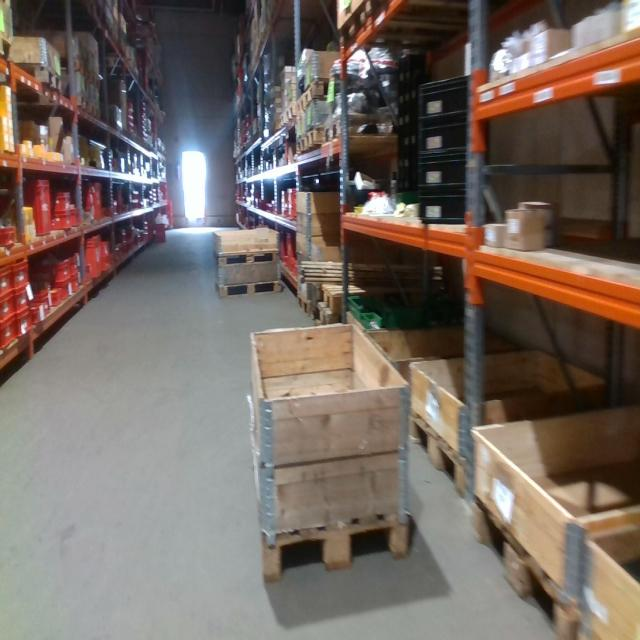pallet: (264, 429, 412, 581), (469, 498, 578, 640), (411, 408, 467, 485), (9, 53, 63, 94), (339, 3, 383, 48), (213, 272, 281, 300), (215, 243, 281, 271), (305, 79, 347, 112), (319, 282, 366, 310), (315, 304, 349, 332), (54, 57, 87, 84), (58, 90, 90, 113), (306, 128, 330, 155), (297, 296, 321, 321), (2, 25, 12, 70), (296, 131, 311, 160), (286, 97, 299, 128), (87, 72, 106, 90), (296, 95, 308, 118), (86, 104, 101, 121), (276, 113, 286, 133)
small_load_carrier: (416, 72, 490, 117), (415, 150, 492, 188), (16, 174, 54, 236), (416, 117, 491, 148), (415, 188, 481, 218), (71, 234, 103, 281), (30, 255, 69, 293), (0, 262, 13, 304), (32, 299, 52, 326), (0, 292, 15, 328), (13, 259, 31, 288), (13, 288, 35, 311), (93, 180, 105, 222), (35, 286, 59, 305), (2, 320, 14, 354), (286, 231, 295, 270), (2, 226, 16, 251), (53, 192, 69, 213), (15, 309, 32, 327), (73, 182, 95, 194), (59, 281, 70, 303), (53, 213, 69, 228), (151, 223, 164, 240), (68, 255, 79, 272), (288, 189, 299, 206), (83, 194, 97, 207), (69, 212, 79, 230), (291, 259, 300, 277), (73, 271, 86, 283), (290, 206, 299, 219)
